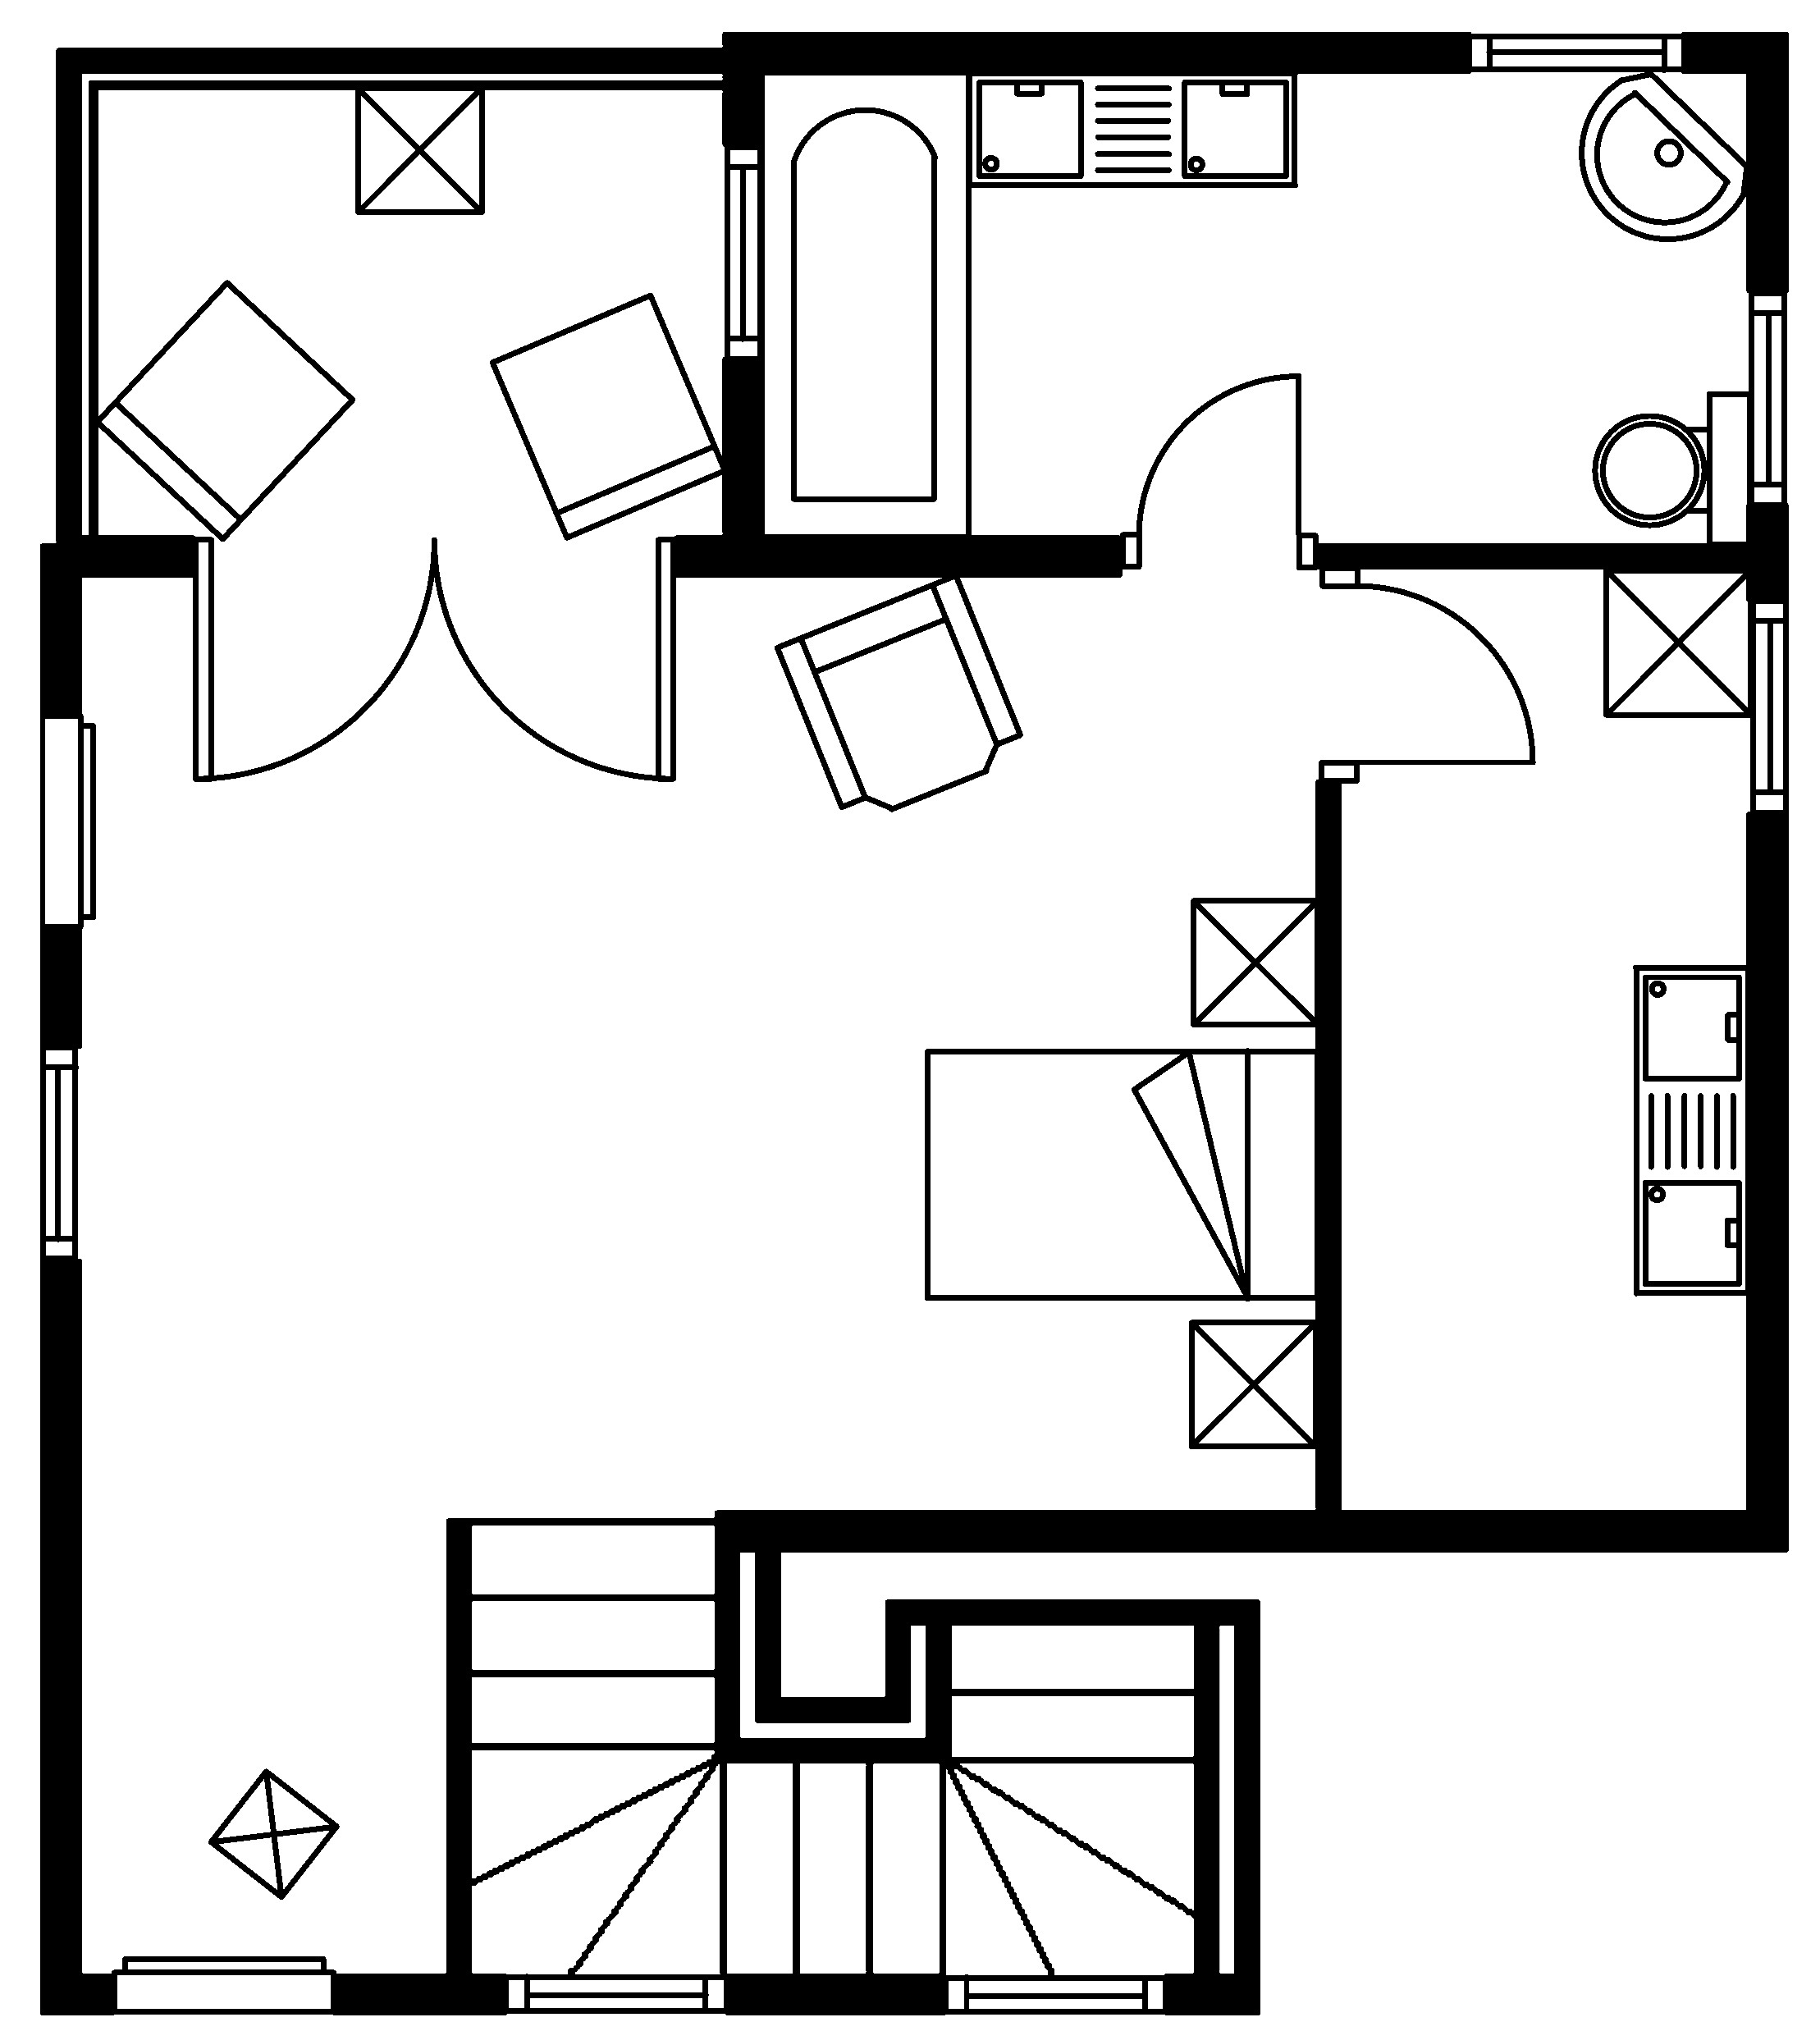armchair: (773, 571, 1022, 812)
bed: (922, 1047, 1321, 1302)
coffee_table: (1602, 566, 1753, 719), (1186, 1318, 1319, 1449), (207, 1767, 339, 1901), (1189, 896, 1321, 1028), (353, 84, 485, 214)
large_sink: (1592, 388, 1753, 548)
small_sink: (1578, 70, 1750, 241)
small_sofa: (93, 278, 355, 543), (488, 290, 727, 541)
tub: (757, 69, 971, 539)
twin_sink: (1630, 963, 1751, 1297), (964, 69, 1298, 188)
